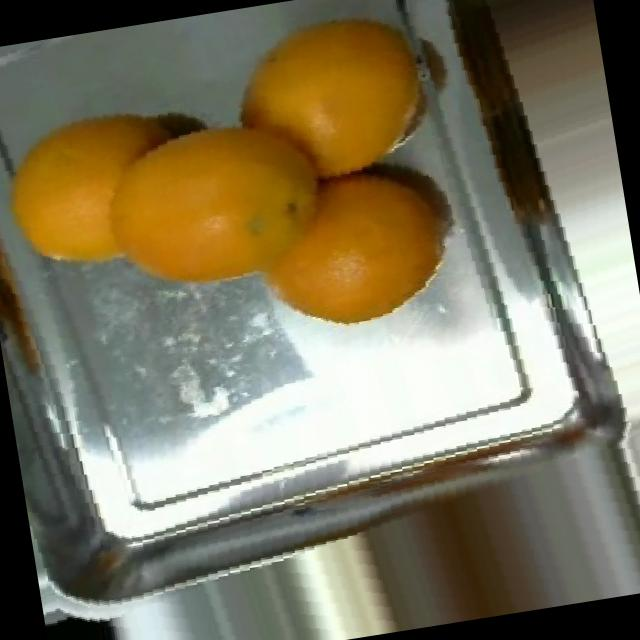Fruit: (41, 593, 141, 640)
